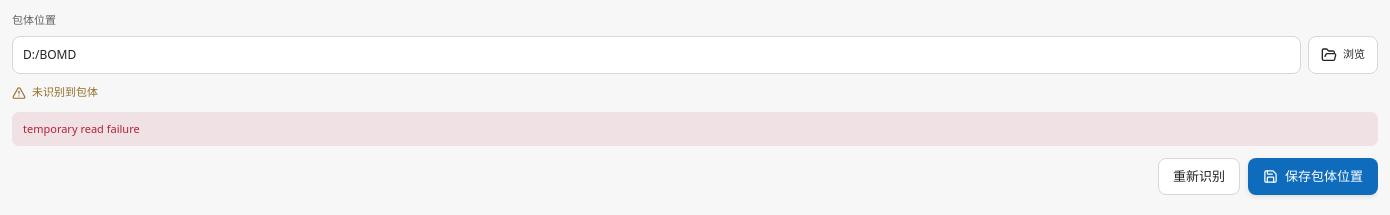
visual export locations › supports retry after a source lookup fails
Expected: the message "temporary read failure" is shown, x1=12 y1=112 x2=1378 y2=146
Click the button "重新识别". click: [1199, 176]
box: x1=1158 y1=158 x2=1240 y2=195
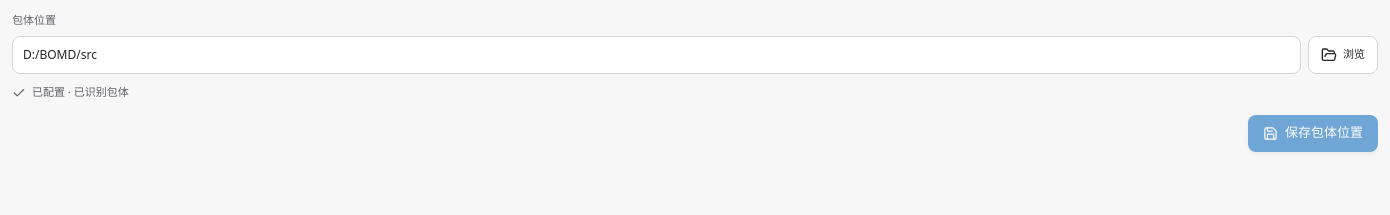
Now the text "已配置 · 已识别包体" is shown, box x1=32 y1=84 x2=129 y2=101
Now the message "temporary read failure" is gone
